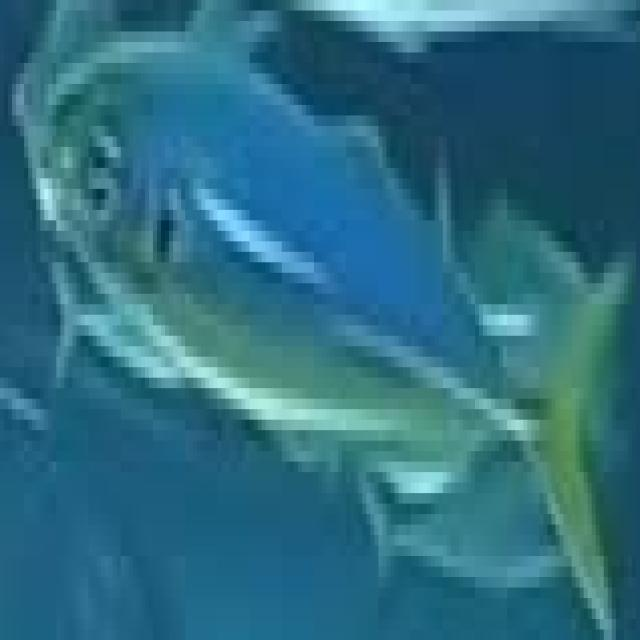fish: (4, 0, 640, 630)
